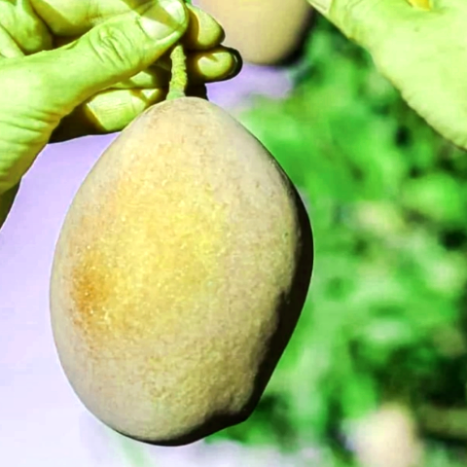mango: (27, 83, 346, 451)
